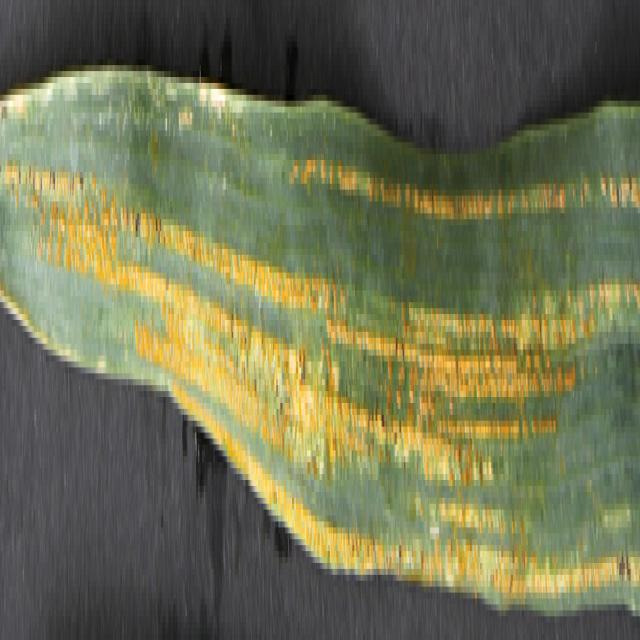leaf rust: (3, 130, 638, 592)
